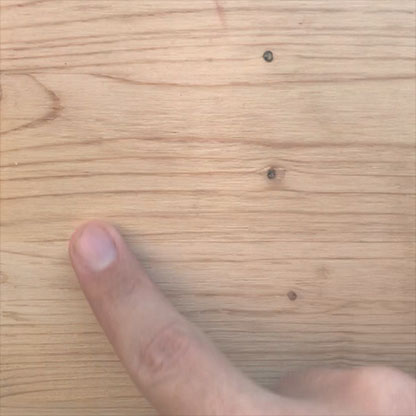fingertip: (60, 217, 141, 288)
